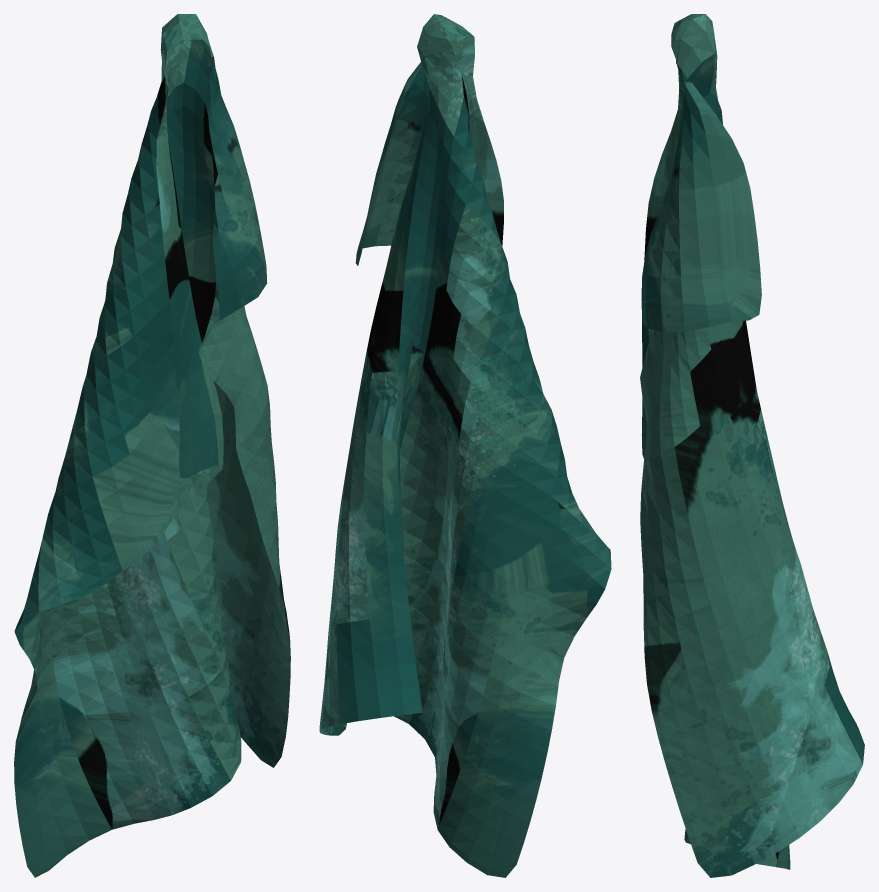
The model's file is chusta1.obj.
3 renders of one model, left to right at view 1: azimuth 30°, elevation 25°; view 2: azimuth 150°, elevation 25°; view 3: azimuth 270°, elevation 25°, orthographic. The views are drawn at different scales.
Visible parts, largest first — view 1: Plane.015; view 2: Plane.015; view 3: Plane.015.
Boxes of the visible parts, x1,y1,x2,y2 form: Plane.015: [14, 14, 290, 877]; Plane.015: [319, 14, 611, 877]; Plane.015: [640, 14, 864, 877].
Size of the model in its own units: 0.2786 by 0.8518 by 0.1922.
Materials: 1 (1 with a texture image).
